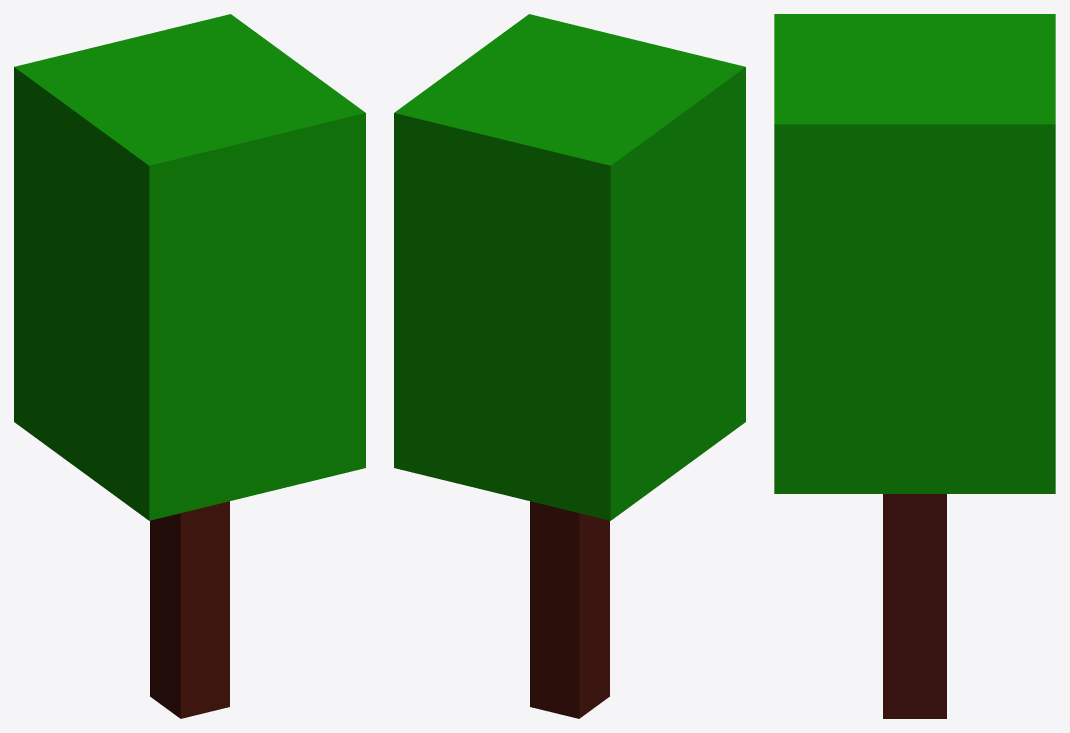
The model's file is Arbol2.fbx.
3 renders of one model, left to right at view 1: azimuth 30°, elevation 25°; view 2: azimuth 150°, elevation 25°; view 3: azimuth 270°, elevation 25°, orthographic. The views are drawn at different scales.
Parts seen in each view (by area): view 1: Arbol2; view 2: Arbol2; view 3: Arbol2.
Boxes of the visible parts, x1,y1,x2,y2 form: Arbol2: (14,14,365,718); Arbol2: (394,14,745,718); Arbol2: (774,14,1055,718).
Bounding box in the file's own units: 0.8832 × 2.38 × 0.9539.
